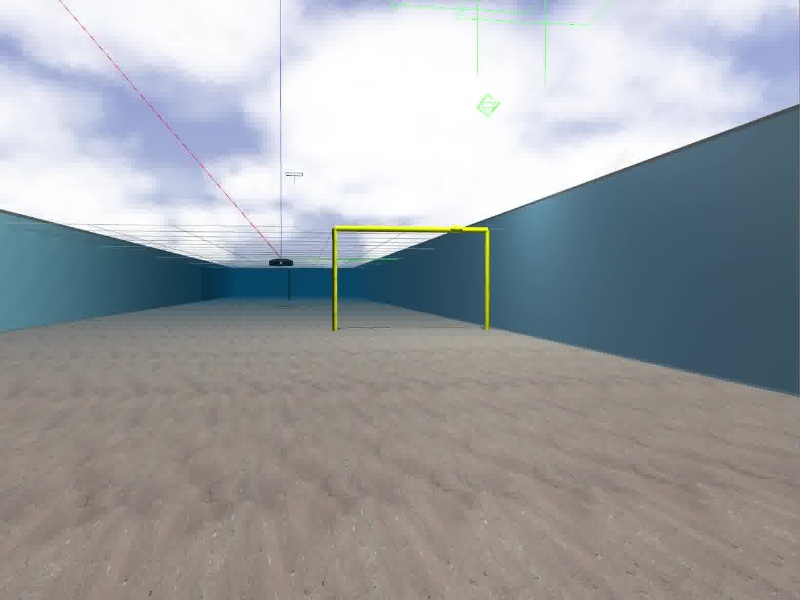gate: (331, 226, 490, 331)
